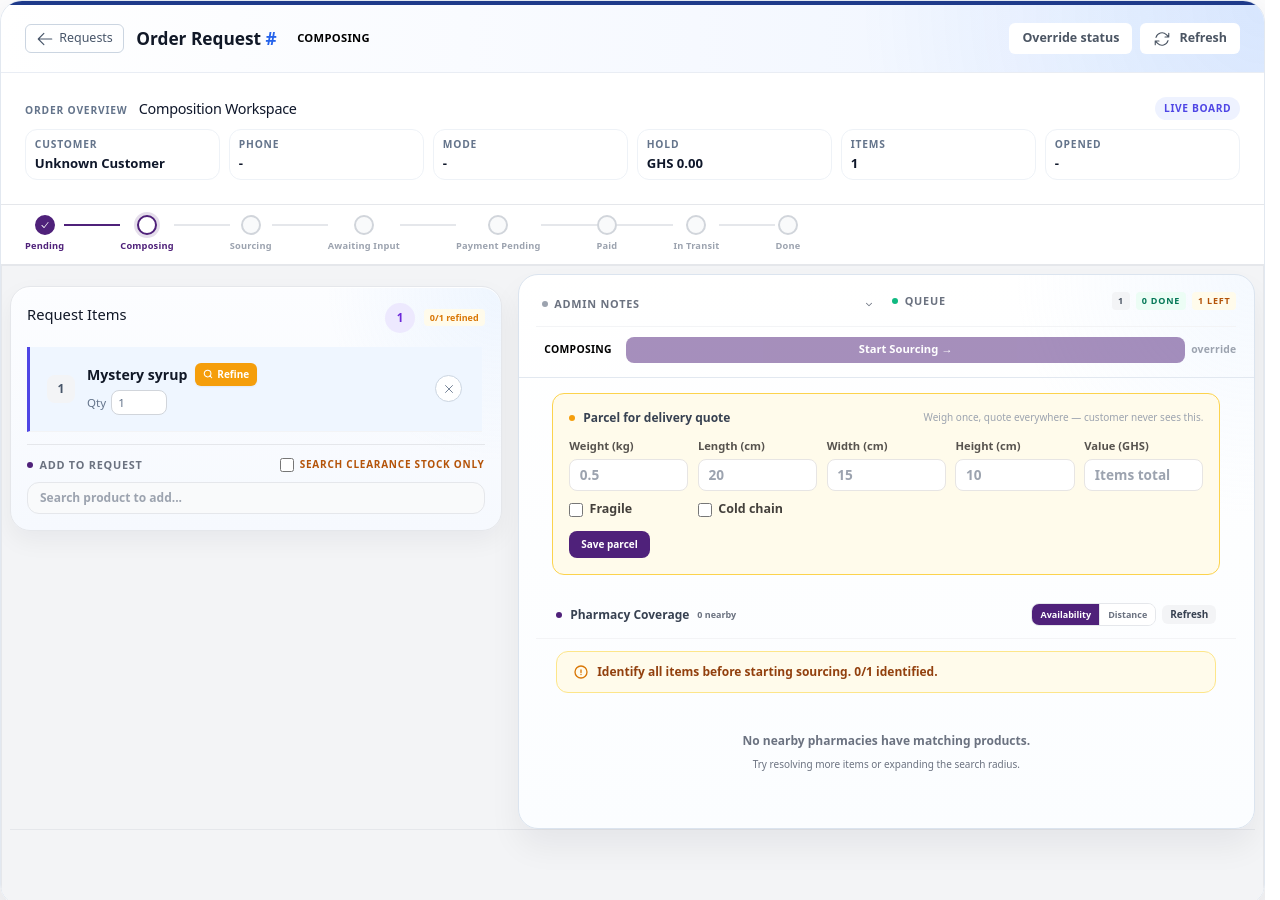
Scenario: identifying an item: opening and closing the box › starts with the item name as the search term
Click the button "Refine" at (226, 374), box [195,363,257,386]
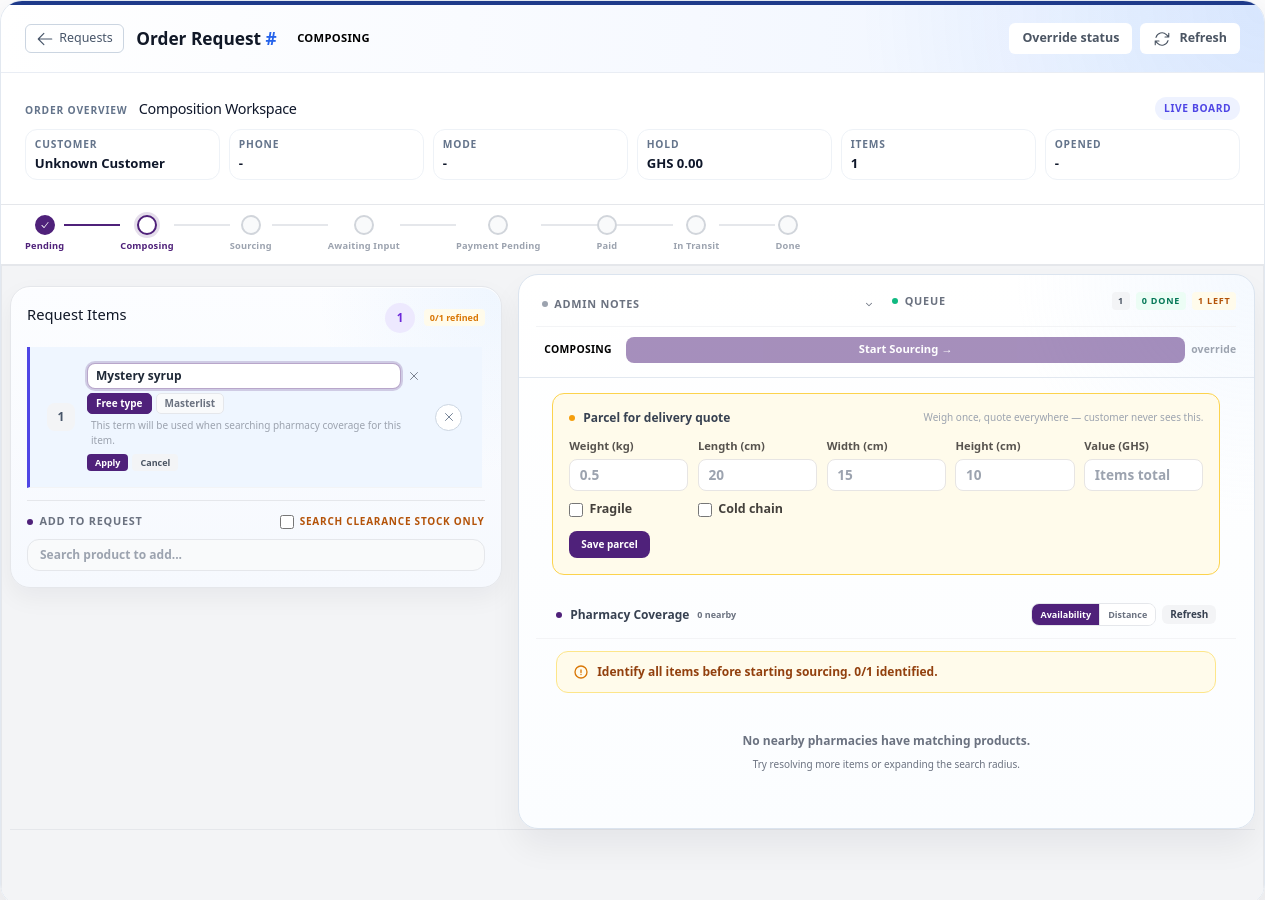
Expected: the field with placeholder "Search master catalog..." holds "Mystery syrup", [87,363,401,389]
